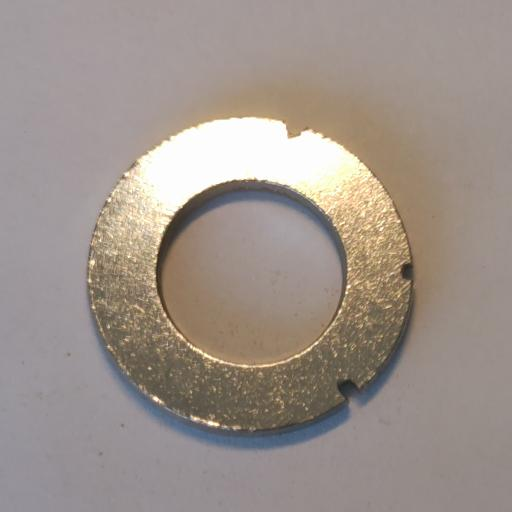burr: (280, 118, 310, 141), (336, 377, 363, 402), (399, 261, 415, 281)
